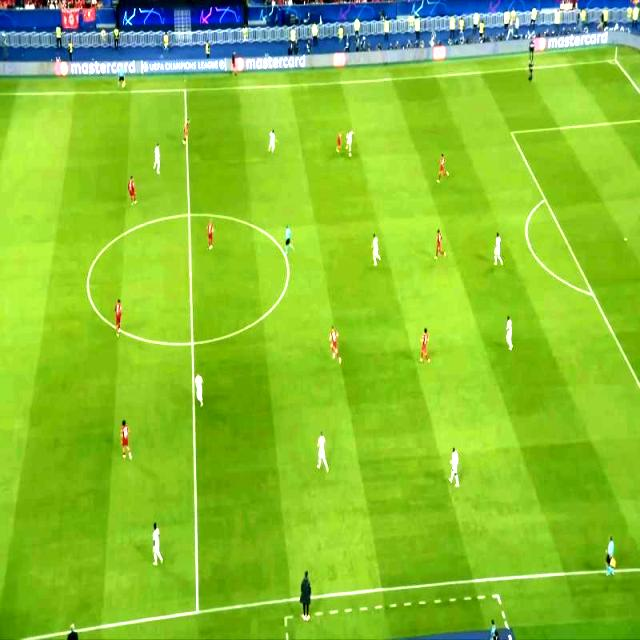bigarea_top_inner: (505, 128, 517, 140)
bottom_arc_area_intersection: (584, 282, 602, 304)
corner: (610, 54, 621, 66)
halfcircle_bottom: (185, 338, 199, 352)
halfcircle_top: (182, 207, 196, 221)
midline_bottom_intersection: (190, 604, 204, 620)
midline_top_intersection: (180, 85, 190, 97)
top_arc_area_intersection: (538, 193, 552, 207)
